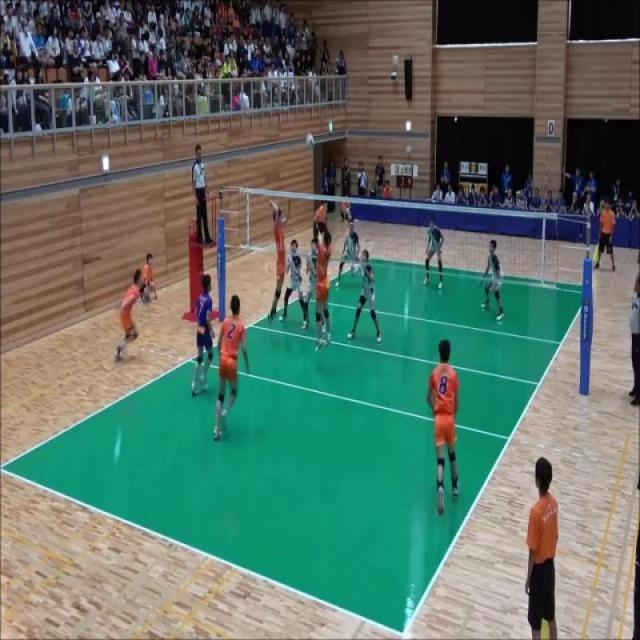volleyball: (306, 131, 314, 151), (346, 208, 350, 215)
